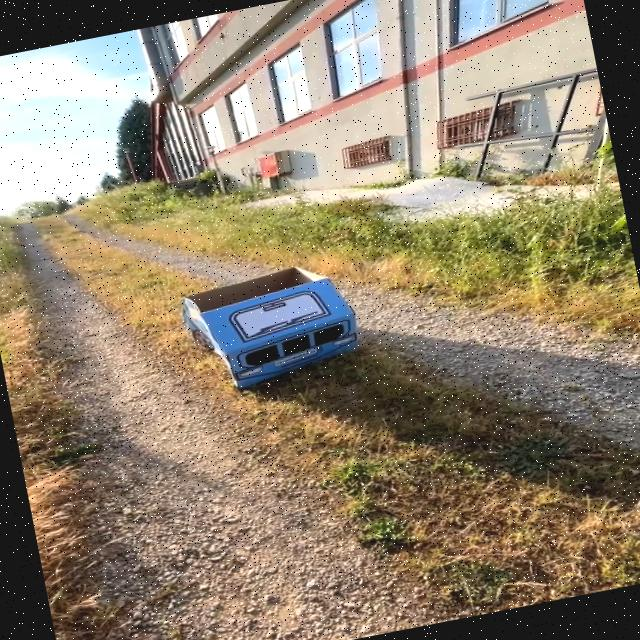blue_car: (139, 225, 424, 445)
